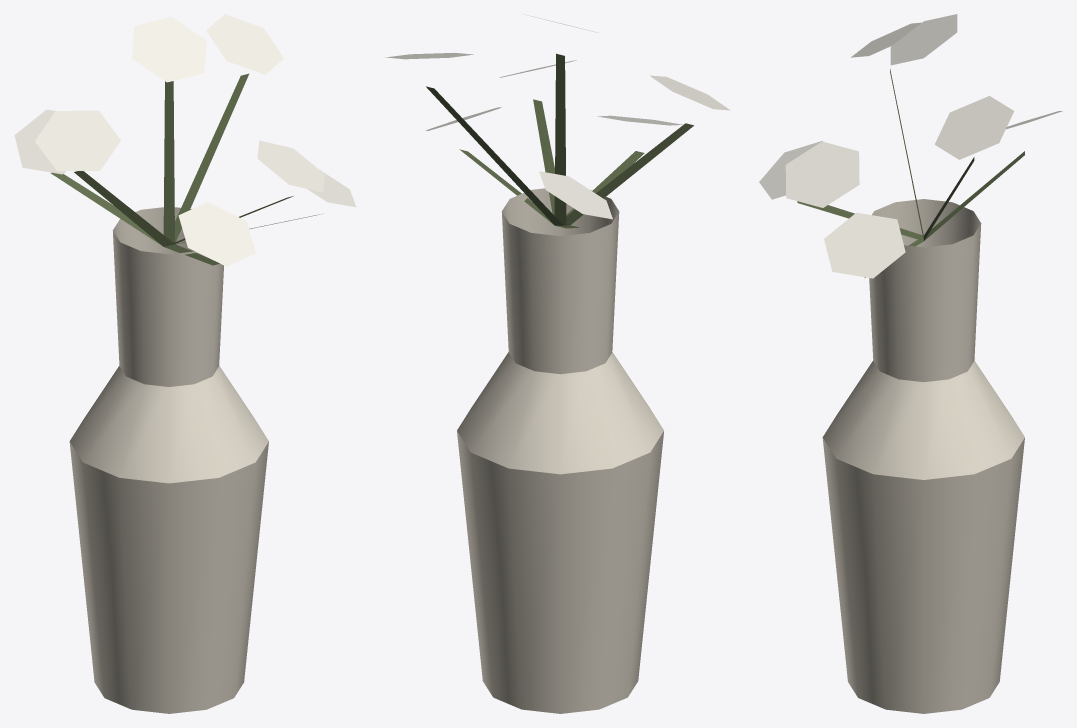
Rendered from LoHoaCuc.glb.
The picture shows the model from 3 angles, left to right: view 1: azimuth 30°, elevation 25°; view 2: azimuth 150°, elevation 25°; view 3: azimuth 270°, elevation 25°; orthographic projection. The views are drawn at different scales.
Visible parts, largest first — view 1: LoHoaCuc_Lo, LoHoaCuc_BongCuc, LoHoaCuc_Canh; view 2: LoHoaCuc_Lo, LoHoaCuc_Canh, LoHoaCuc_BongCuc; view 3: LoHoaCuc_Lo, LoHoaCuc_BongCuc, LoHoaCuc_Canh.
Boxes of the visible parts, left/top/right/bottom form: LoHoaCuc_Lo: left=69, top=207, right=268, bottom=713; LoHoaCuc_BongCuc: left=14, top=14, right=356, bottom=266; LoHoaCuc_Canh: left=50, top=73, right=322, bottom=265; LoHoaCuc_Lo: left=457, top=188, right=663, bottom=713; LoHoaCuc_Canh: left=426, top=53, right=693, bottom=228; LoHoaCuc_BongCuc: left=385, top=14, right=730, bottom=219; LoHoaCuc_Lo: left=822, top=199, right=1024, bottom=713; LoHoaCuc_BongCuc: left=759, top=14, right=1062, bottom=278; LoHoaCuc_Canh: left=797, top=68, right=1024, bottom=277.
Bounding box in the file's own units: 0.2059 × 0.4308 × 0.1802.
